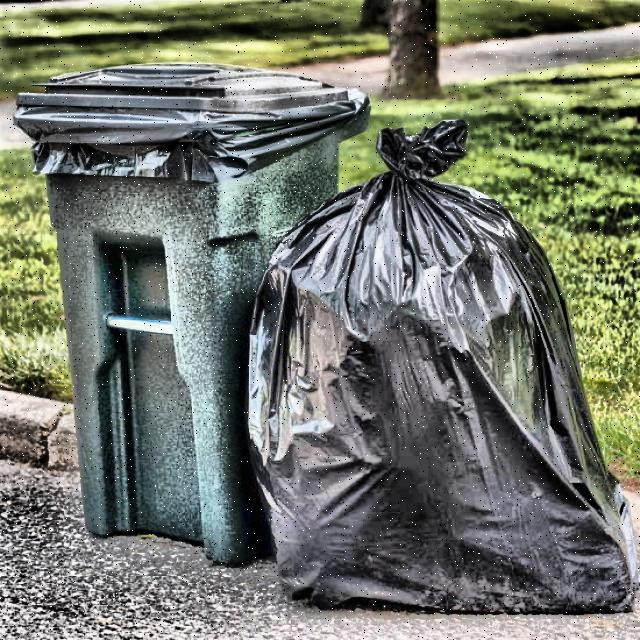Trashbag: (250, 83, 631, 630)
